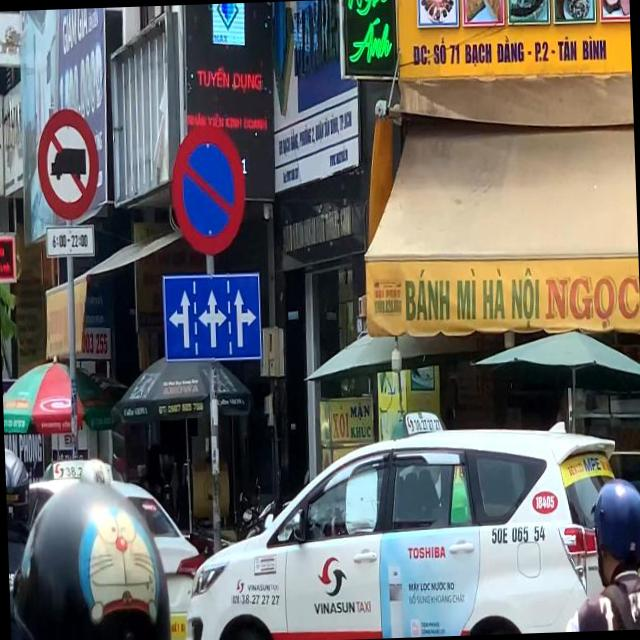P-131a: (170, 123, 246, 254)
